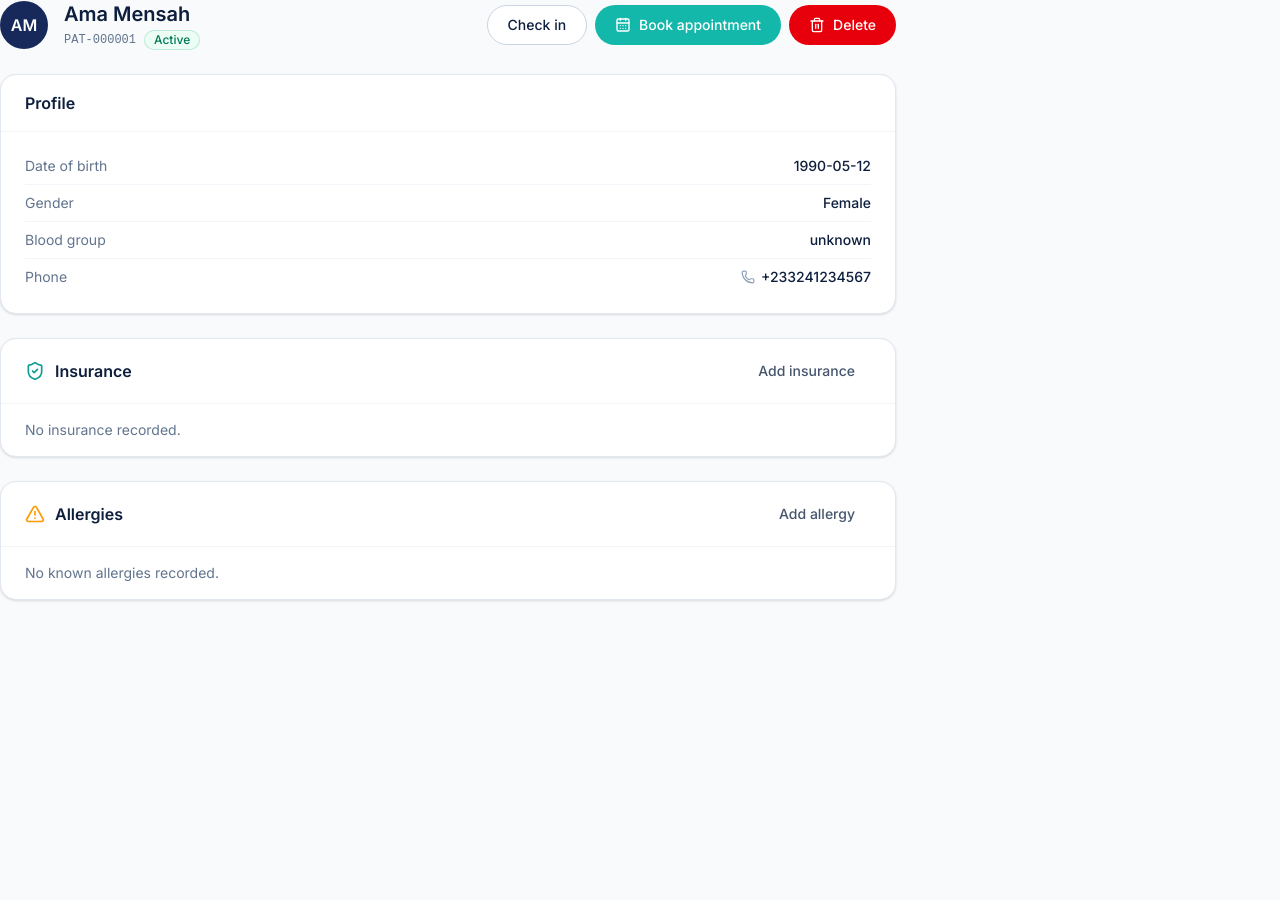
Test: PatientDetail — delete/restore › deletes (deactivates) the patient after confirming in the modal
Expected: the heading "Ama Mensah" is shown, [64,0,200,28]
Click the button "Delete".
click(843, 25)  # box [789,5,896,45]
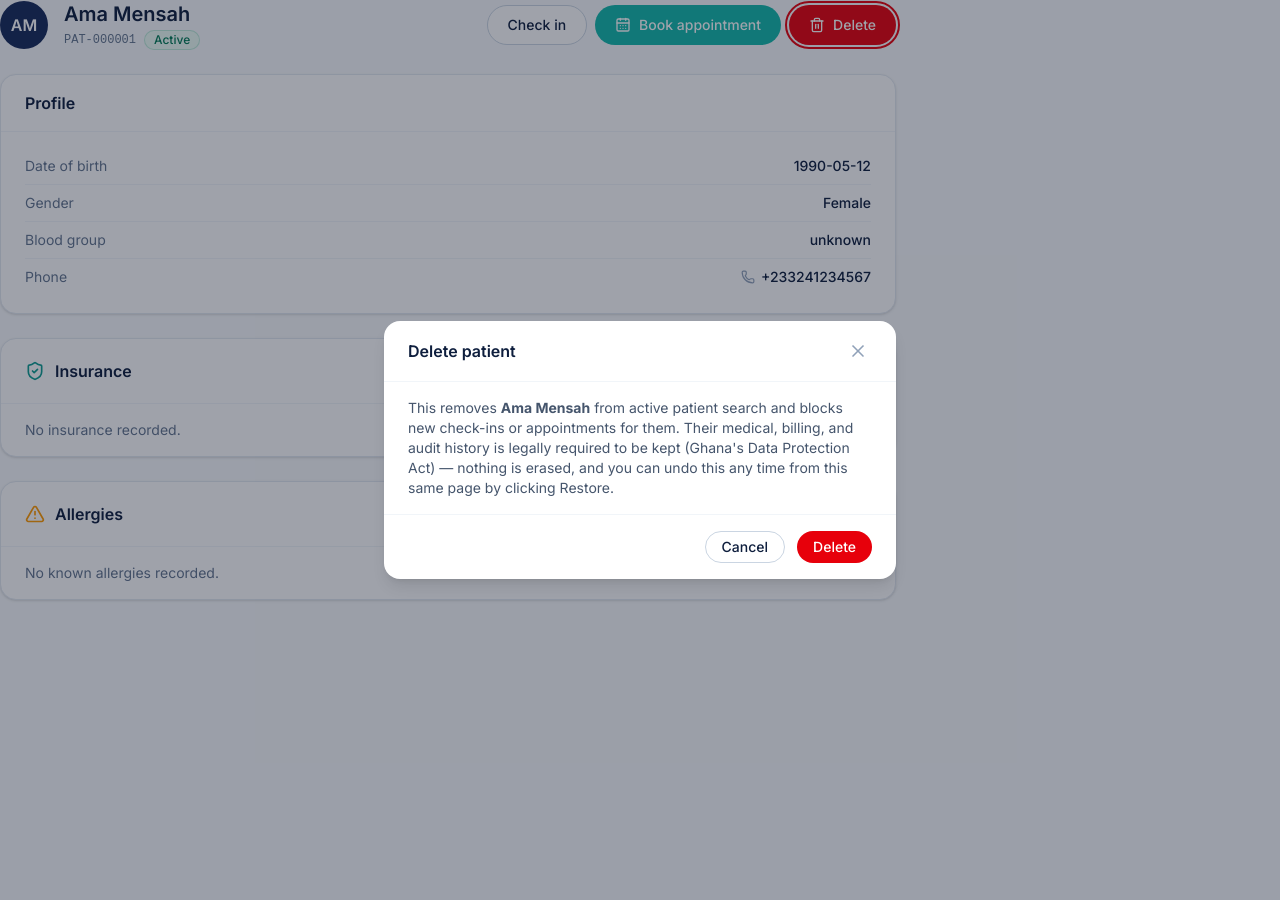
Click the button "Delete".
click(835, 547)  # box [797,531,872,563]
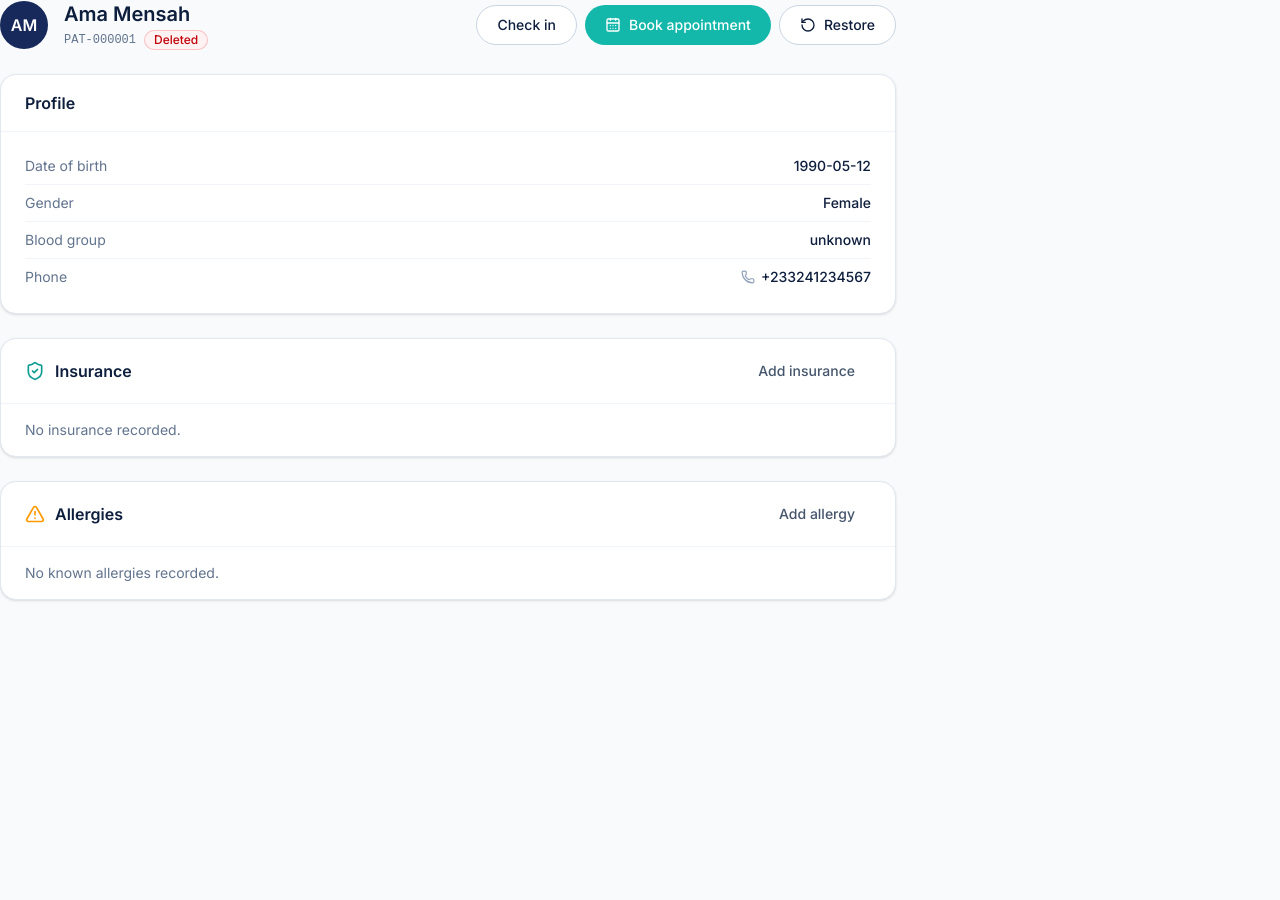
Now the text "Deleted" is shown, box [144,30,208,50]
Now the button "Restore" is shown, box [779,5,896,45]
